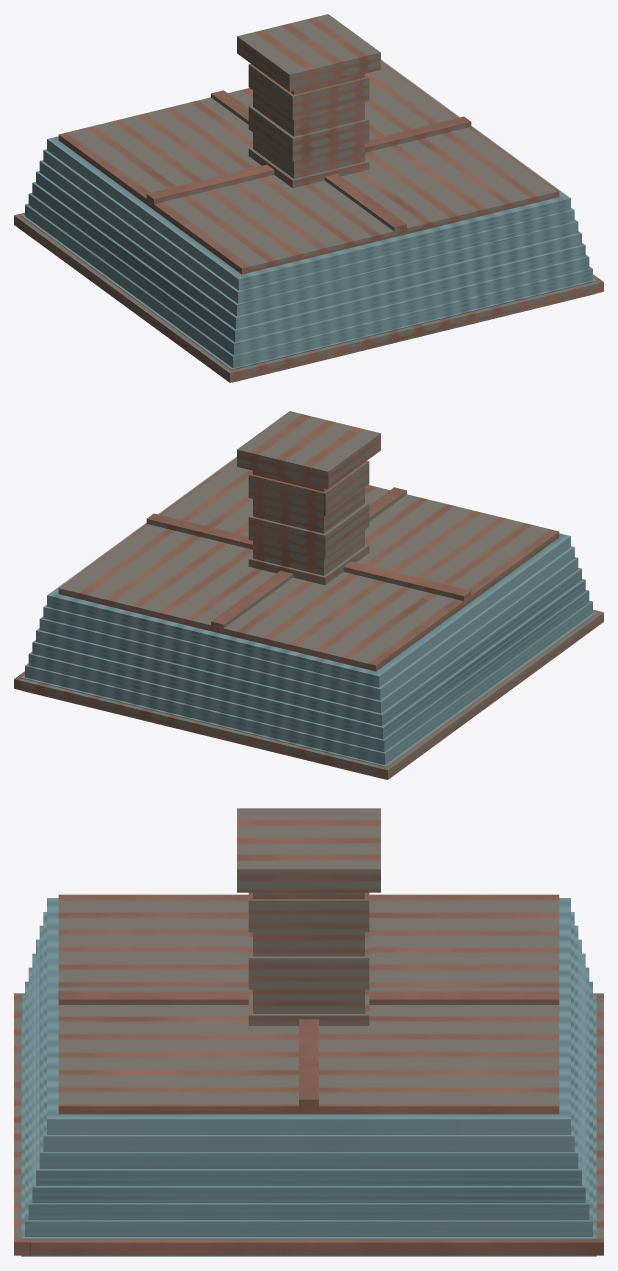
The model's file is med_chimney.glb.
3 renders of one model, top to bottom at view 1: azimuth 30°, elevation 25°; view 2: azimuth 150°, elevation 25°; view 3: azimuth 270°, elevation 25°, orthographic. The views are drawn at different scales.
Visible parts, largest first — view 1: med_chimney; view 2: med_chimney; view 3: med_chimney.
Boxes of the visible parts, x1,y1,x2,y2 form: med_chimney: (14,14,603,382); med_chimney: (14,411,603,779); med_chimney: (14,808,603,1256).
Size of the model in its own units: 4.1 by 2.27 by 4.1.
1 material, 1 textured.
